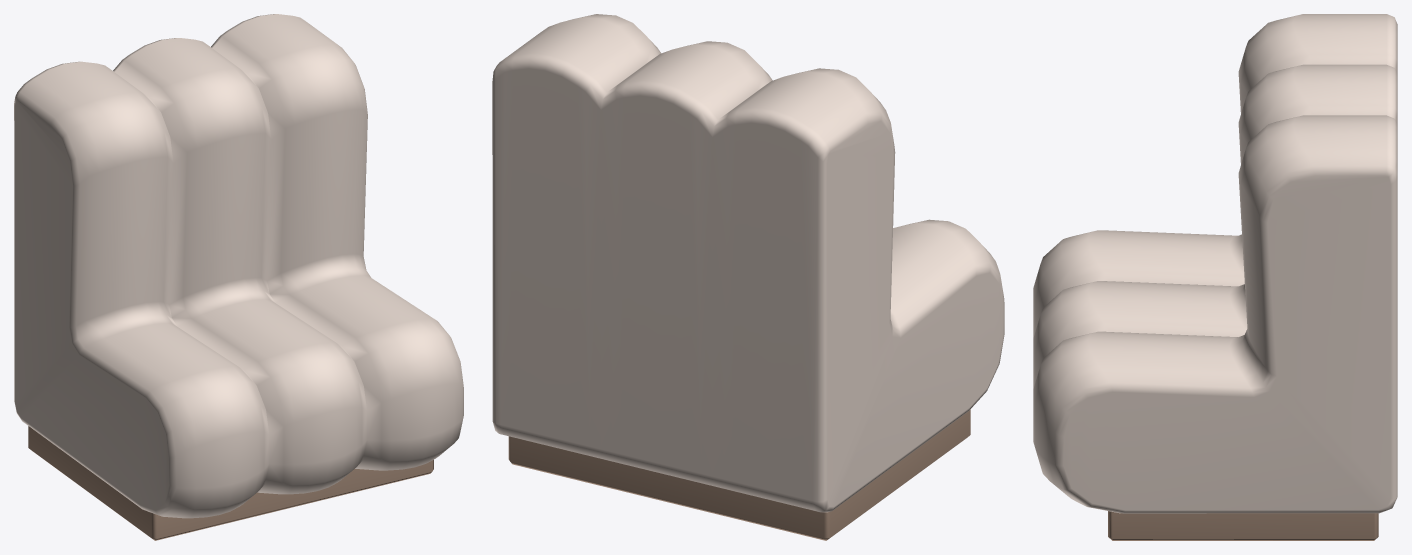
File: Sofa_white.glb
3 renders of one model, left to right at view 1: azimuth 30°, elevation 25°; view 2: azimuth 150°, elevation 25°; view 3: azimuth 270°, elevation 25°, orthographic. The views are drawn at different scales.
Visible parts, largest first — view 1: Armchair_4; view 2: Armchair_4; view 3: Armchair_4.
Boxes of the visible parts, box(x1,y1,x2,y2) form: Armchair_4: box(14, 14, 463, 540); Armchair_4: box(492, 14, 1004, 540); Armchair_4: box(1033, 14, 1397, 540).
Size of the model in its own units: 1.2 by 1.45 by 1.21.
1 material, 1 textured.
